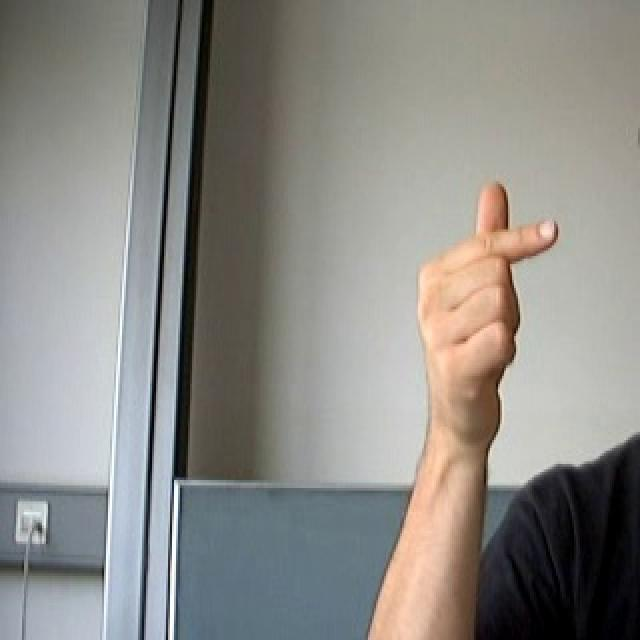T: (393, 152, 570, 461)
